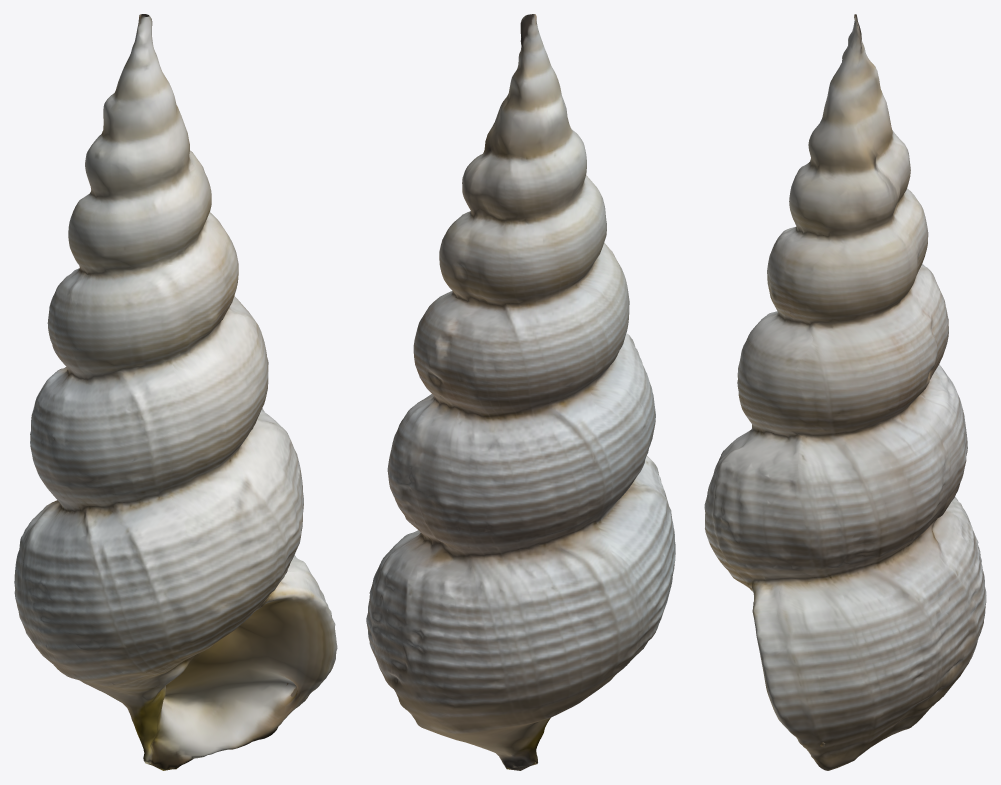
Rendered from 10. Amaea magnifica.obj.
3 renders of one model, left to right at view 1: azimuth 30°, elevation 25°; view 2: azimuth 150°, elevation 25°; view 3: azimuth 270°, elevation 25°, orthographic. The views are drawn at different scales.
Parts seen in each view (by area): view 1: 10_Amaea_magnifica_20151127_2; view 2: 10_Amaea_magnifica_20151127_2; view 3: 10_Amaea_magnifica_20151127_2.
Part boxes in pixels (x1,y1,x2,y2): 10_Amaea_magnifica_20151127_2: (14, 14, 337, 770); 10_Amaea_magnifica_20151127_2: (366, 14, 675, 770); 10_Amaea_magnifica_20151127_2: (704, 14, 986, 770).
Bounding box in the file's own units: 1.24 × 3.32 × 1.17.
Materials: 1 (1 with a texture image).
